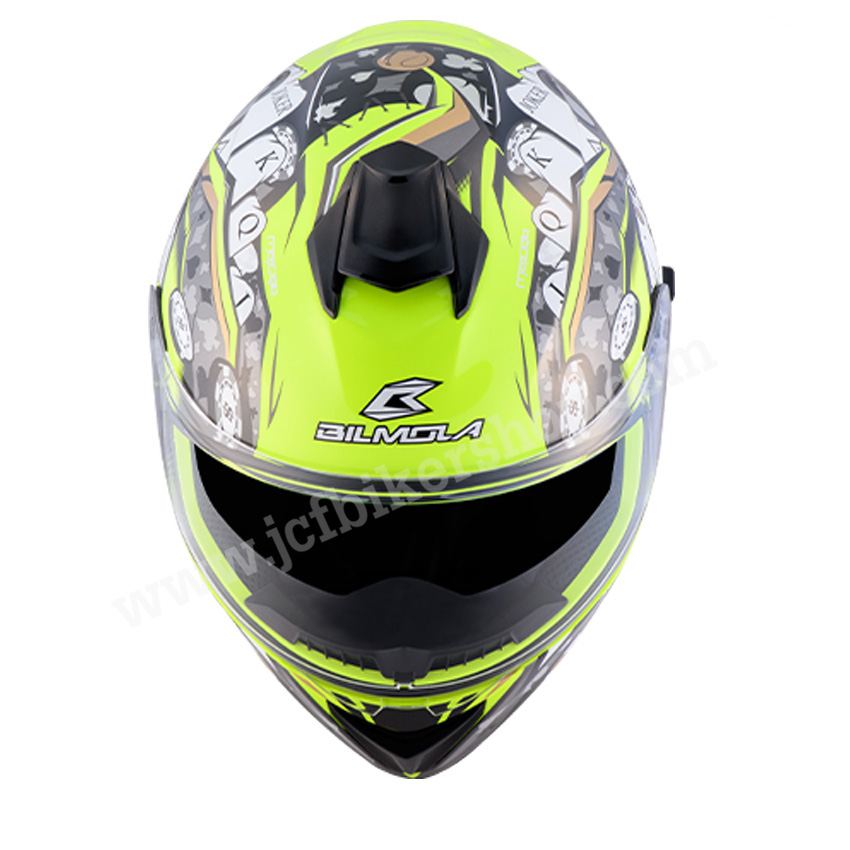helmet: (148, 21, 671, 781)
